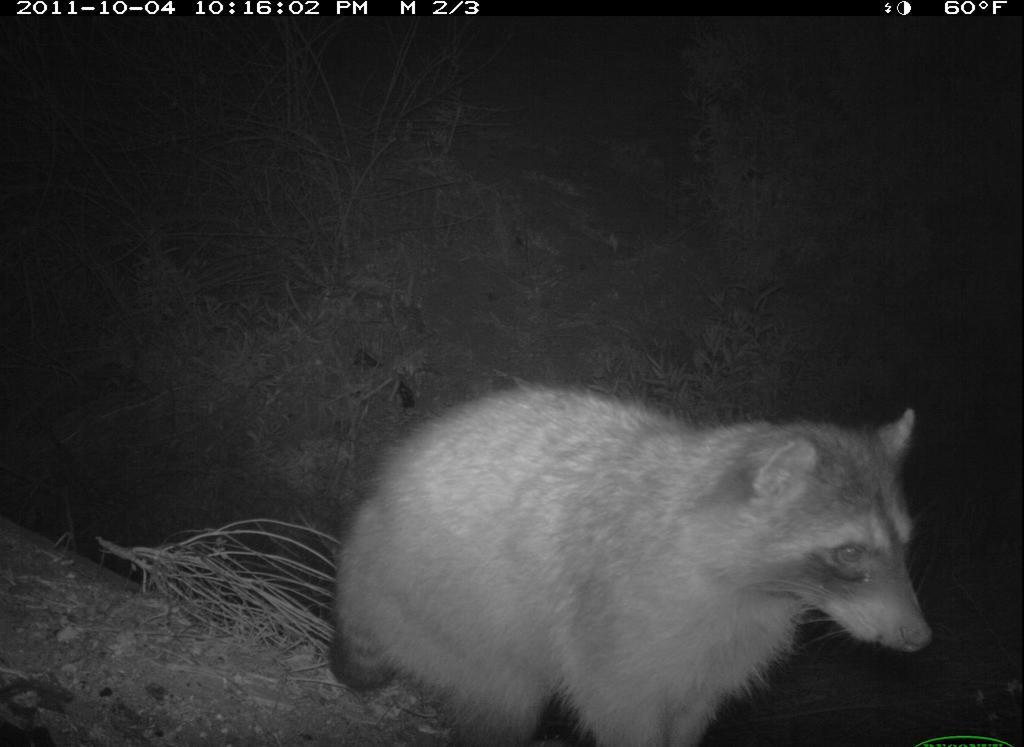raccoon: (317, 367, 952, 747)
